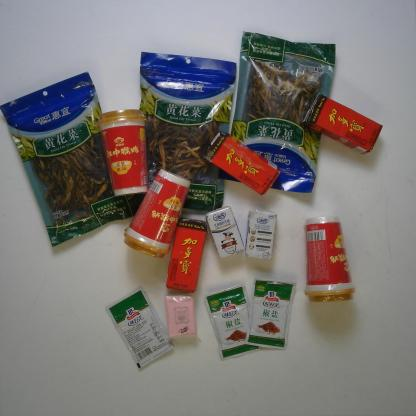Dried Food: (0, 67, 150, 252), (217, 27, 338, 196), (136, 49, 238, 214)
Drink: (300, 92, 385, 158), (201, 129, 282, 197), (164, 215, 210, 295)
Instant Drink: (121, 166, 194, 262), (92, 104, 152, 199), (300, 213, 358, 306)
Milk: (203, 204, 246, 261), (243, 207, 279, 262)
Seasoner: (102, 284, 176, 372), (202, 282, 264, 361), (243, 276, 298, 352)
Tissue: (162, 290, 201, 340)
